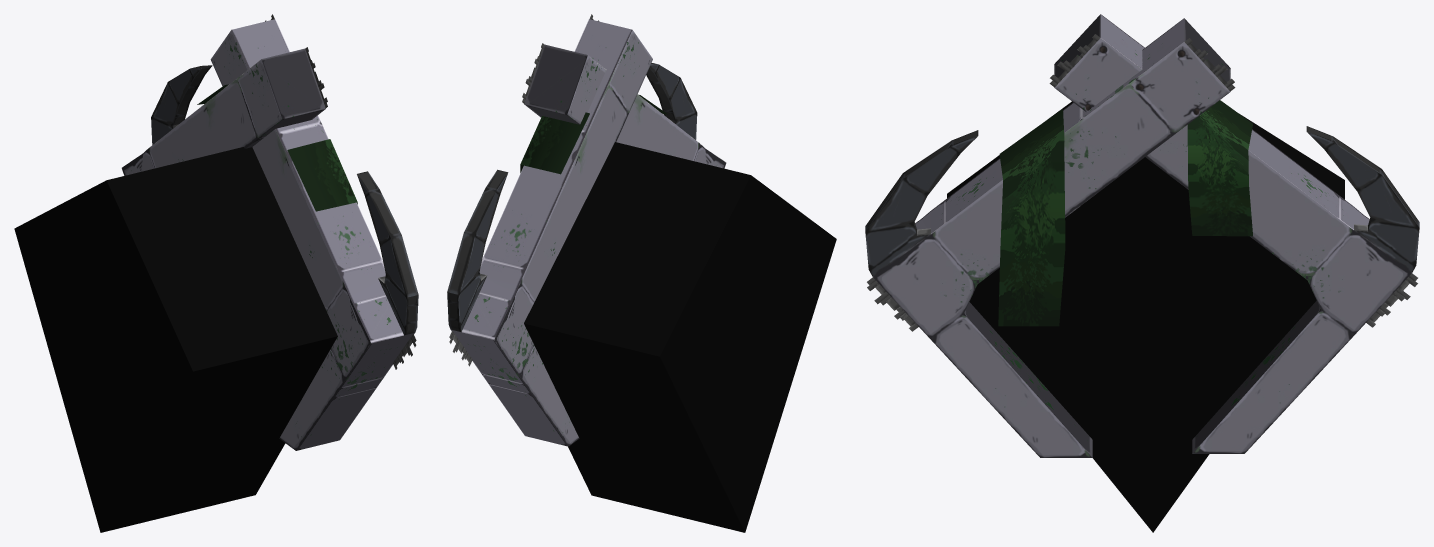
File: Portal.fbx
3 renders of one model, left to right at view 1: azimuth 30°, elevation 25°; view 2: azimuth 150°, elevation 25°; view 3: azimuth 270°, elevation 25°, orthographic. The views are drawn at different scales.
Visible parts, largest first — view 1: pPlane3, pPlane1, pPlane25, pPlane26; view 2: pPlane3, pPlane25, pPlane1, pPlane27; view 3: pPlane3, pPlane1, pPlane25, pPlane26, pPlane27.
Part boxes in pixels (bbox=[...]): pPlane3: bbox=[14, 147, 337, 532]; pPlane1: bbox=[210, 14, 418, 450]; pPlane25: bbox=[121, 47, 327, 175]; pPlane26: bbox=[287, 139, 357, 211]; pPlane3: bbox=[524, 142, 836, 532]; pPlane25: bbox=[447, 14, 652, 446]; pPlane1: bbox=[522, 43, 726, 168]; pPlane27: bbox=[520, 112, 589, 174]; pPlane3: bbox=[947, 101, 1344, 532]; pPlane1: bbox=[865, 18, 1235, 457]; pPlane25: bbox=[1049, 14, 1419, 453]; pPlane26: bbox=[998, 109, 1065, 326]; pPlane27: bbox=[1187, 100, 1252, 236].
Size of the model in its own units: 2.95 by 6.76 by 6.62.
